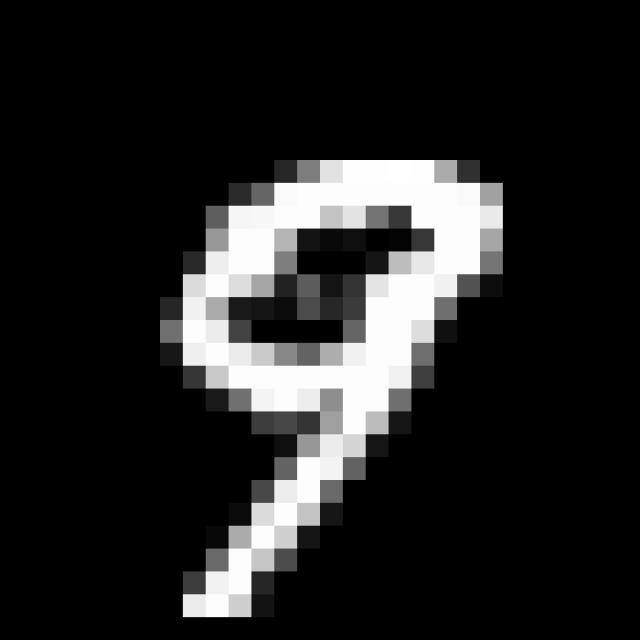nine -9-: (176, 151, 508, 635)
